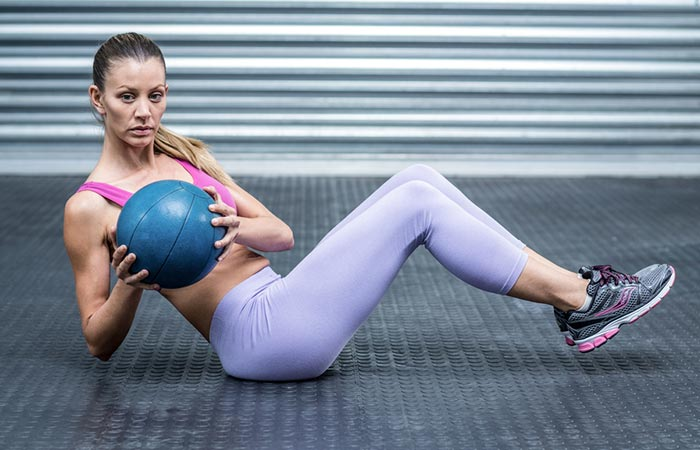blue ball: (115, 179, 226, 290)
